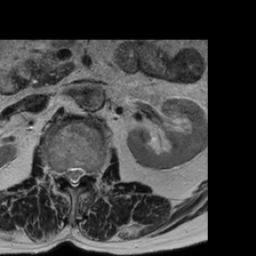CCS_normal: (70, 159, 77, 193)
LFS_stenosis: (85, 160, 92, 183)
LLS_normal: (77, 158, 85, 182)
RFS_stenosis: (55, 163, 63, 184)
RLS_normal: (63, 160, 70, 185)
